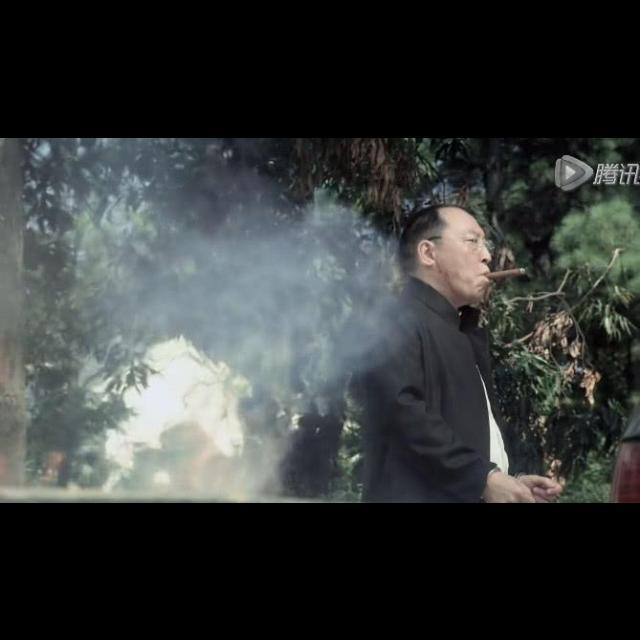rokok: (486, 262, 528, 284)
